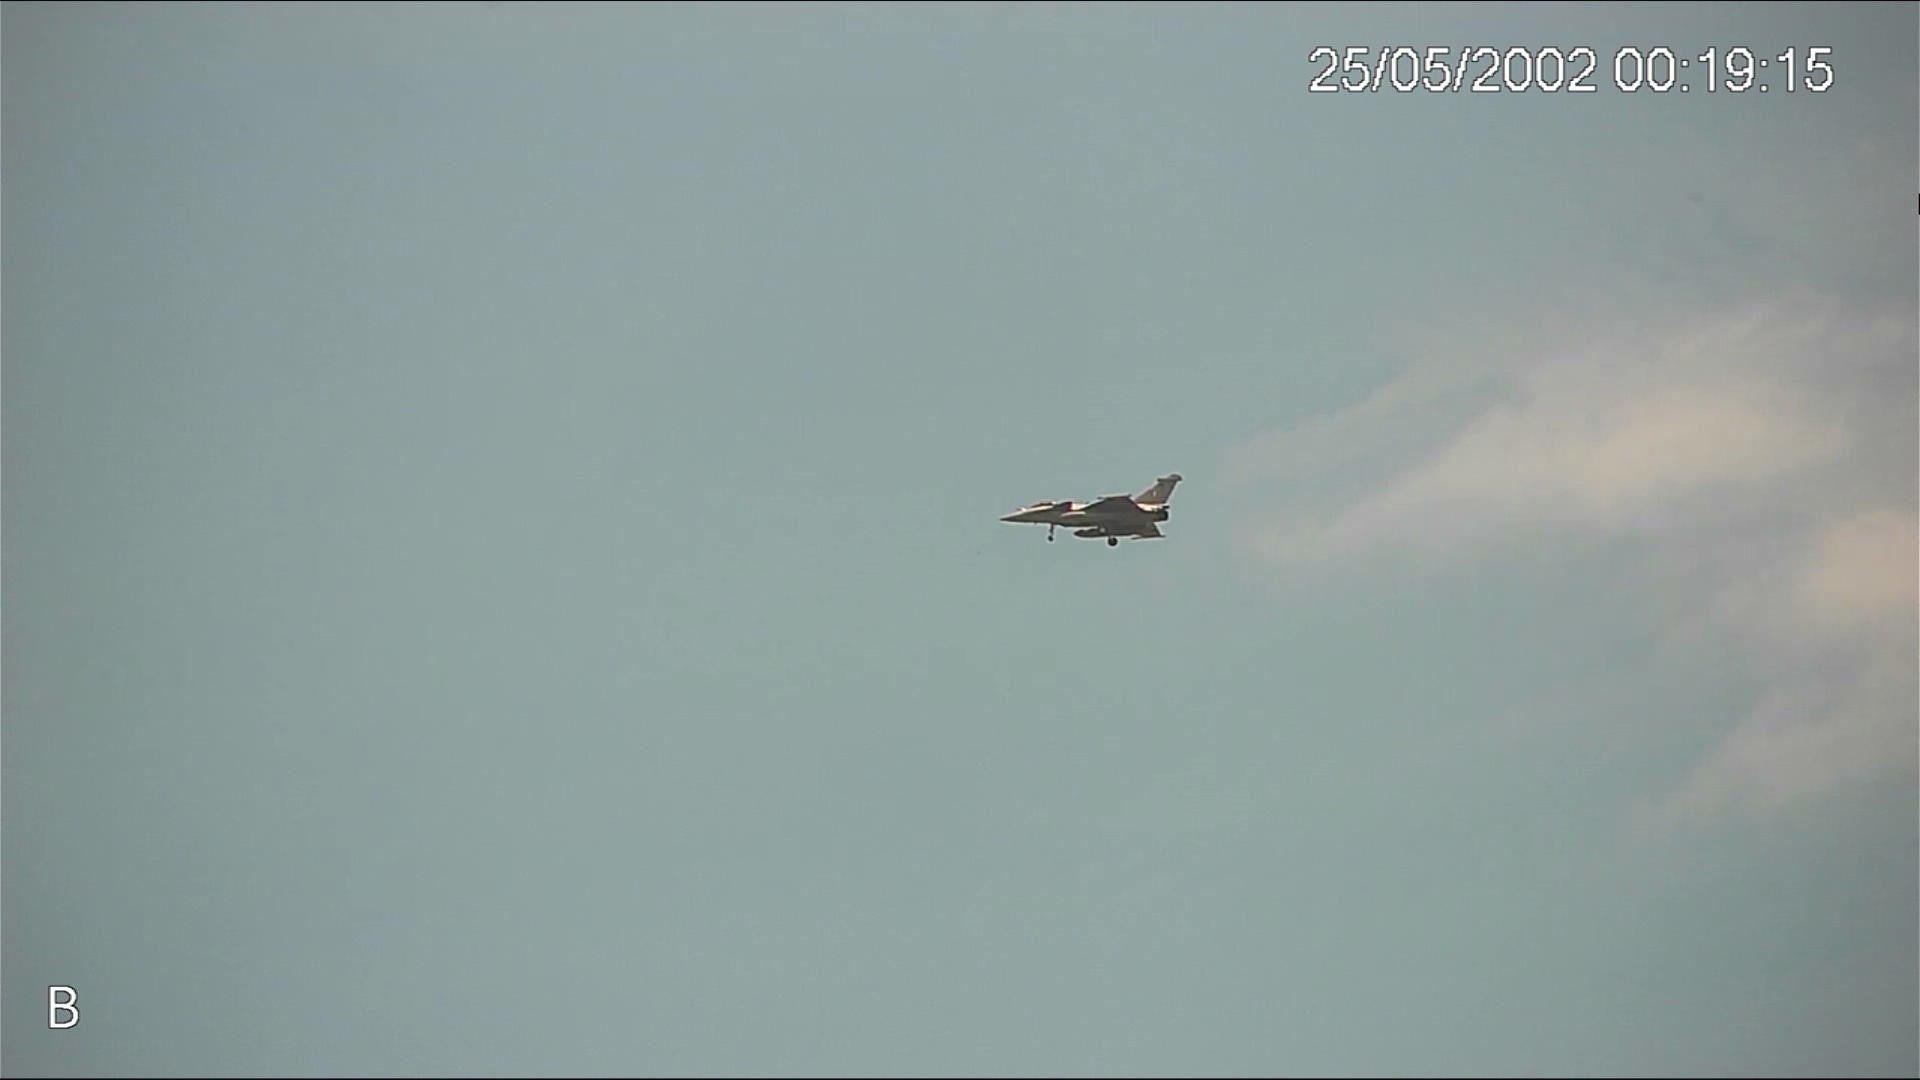SU_30: (1001, 469, 1185, 553)
